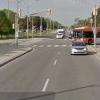Bus: (67, 23, 98, 45)
